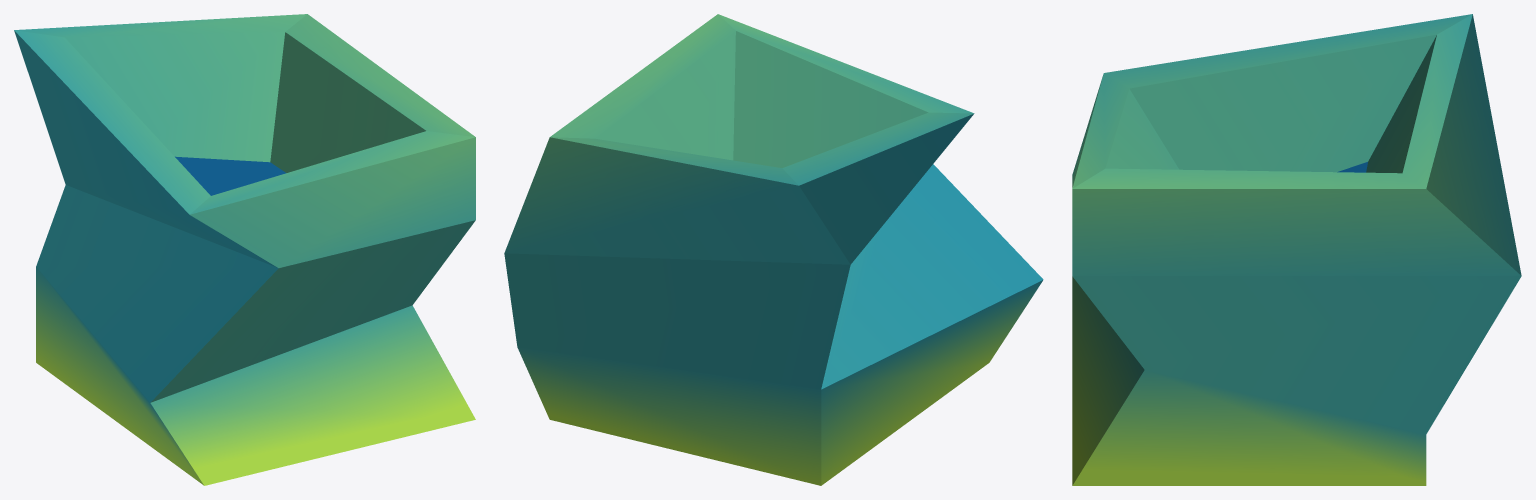
File: SM_PlantPotfbx.fbx
3 renders of one model, left to right at view 1: azimuth 30°, elevation 25°; view 2: azimuth 150°, elevation 25°; view 3: azimuth 270°, elevation 25°, orthographic. The views are drawn at different scales.
Visible parts, largest first — view 1: PlantPot; view 2: PlantPot; view 3: PlantPot.
Part boxes in pixels (left/top/right/bottom): PlantPot: left=14, top=14, right=475, bottom=485; PlantPot: left=504, top=14, right=1043, bottom=485; PlantPot: left=1072, top=14, right=1521, bottom=485.
Bounding box in the file's own units: 70.45 × 68.14 × 57.56.
